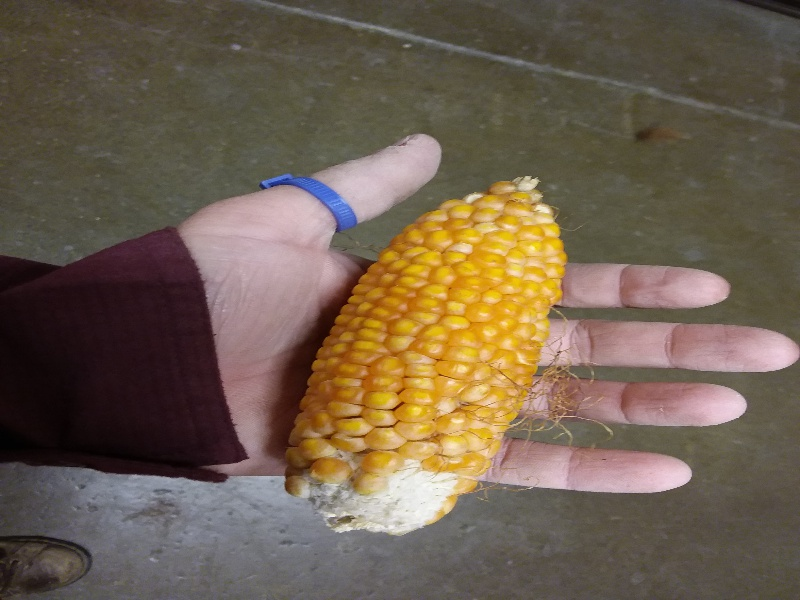band: (259, 171, 361, 230)
ear: (279, 168, 574, 536)
